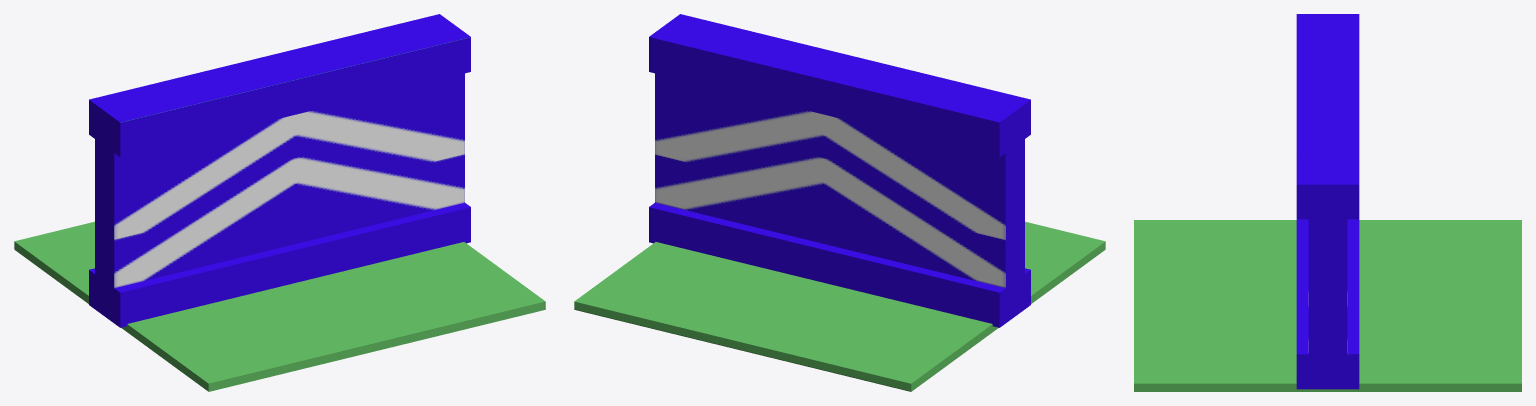
The model's file is Jump.glb.
3 renders of one model, left to right at view 1: azimuth 30°, elevation 25°; view 2: azimuth 150°, elevation 25°; view 3: azimuth 270°, elevation 25°, orthographic.
Parts seen in each view (by area): view 1: Cube.039; view 2: Cube.039; view 3: Cube.039.
Boxes of the visible parts, box(x1,y1,x2,y2) form: Cube.039: box(14, 14, 545, 391); Cube.039: box(574, 14, 1105, 391); Cube.039: box(1134, 14, 1521, 391).
Bounding box in the file's own units: 2.66 × 1.53 × 2.55.
1 material, 1 textured.
